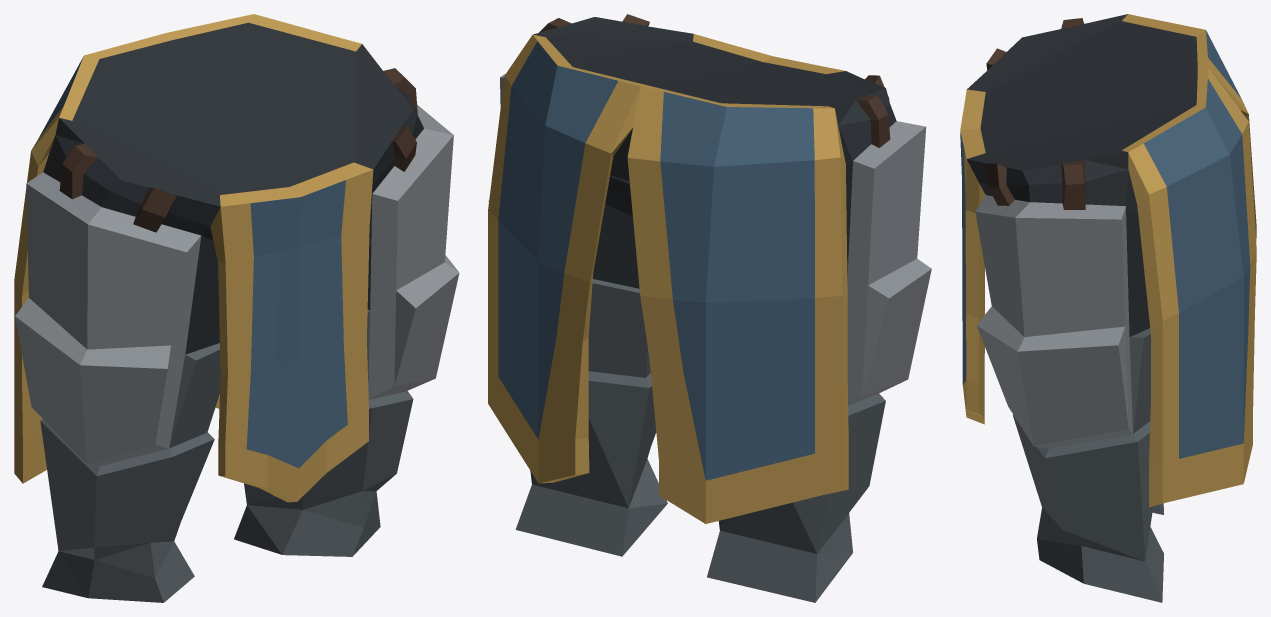
File: Chr_Hips_Male_20_Static.fbx
The picture shows the model from 3 angles, left to right: view 1: azimuth 30°, elevation 25°; view 2: azimuth 150°, elevation 25°; view 3: azimuth 270°, elevation 25°; orthographic projection. The views are drawn at different scales.
Parts seen in each view (by area): view 1: Chr_Hips_Male_20_Static; view 2: Chr_Hips_Male_20_Static; view 3: Chr_Hips_Male_20_Static.
Part boxes in pixels (x1,y1,x2,y2): Chr_Hips_Male_20_Static: [14, 14, 459, 602]; Chr_Hips_Male_20_Static: [488, 14, 931, 602]; Chr_Hips_Male_20_Static: [960, 14, 1256, 602].
Size of the model in its own units: 0.4666 by 0.5545 by 0.3194.
